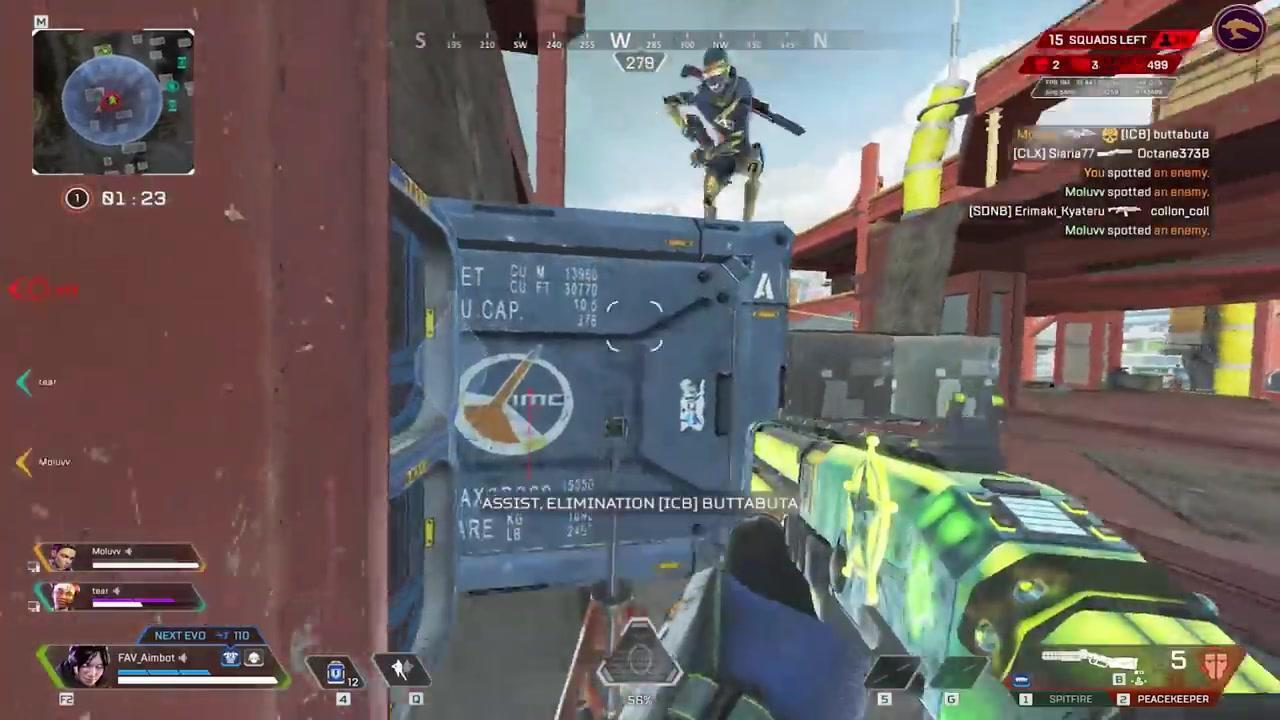avatar: (660, 45, 768, 225)
